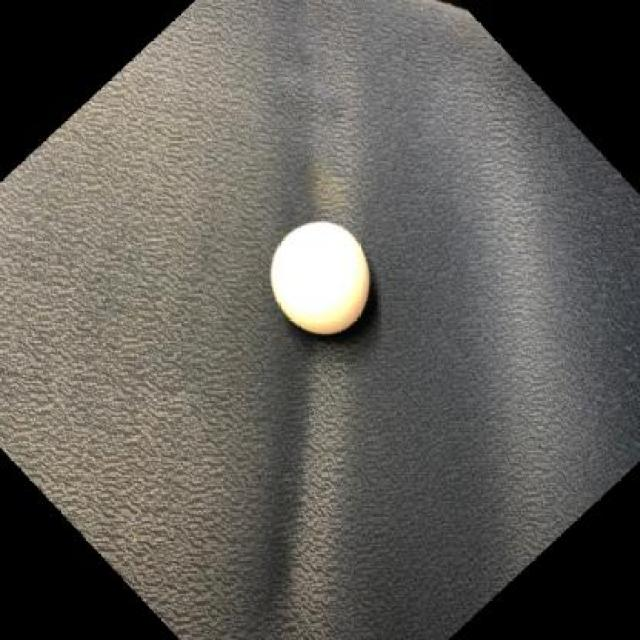egg: (262, 215, 378, 348)
